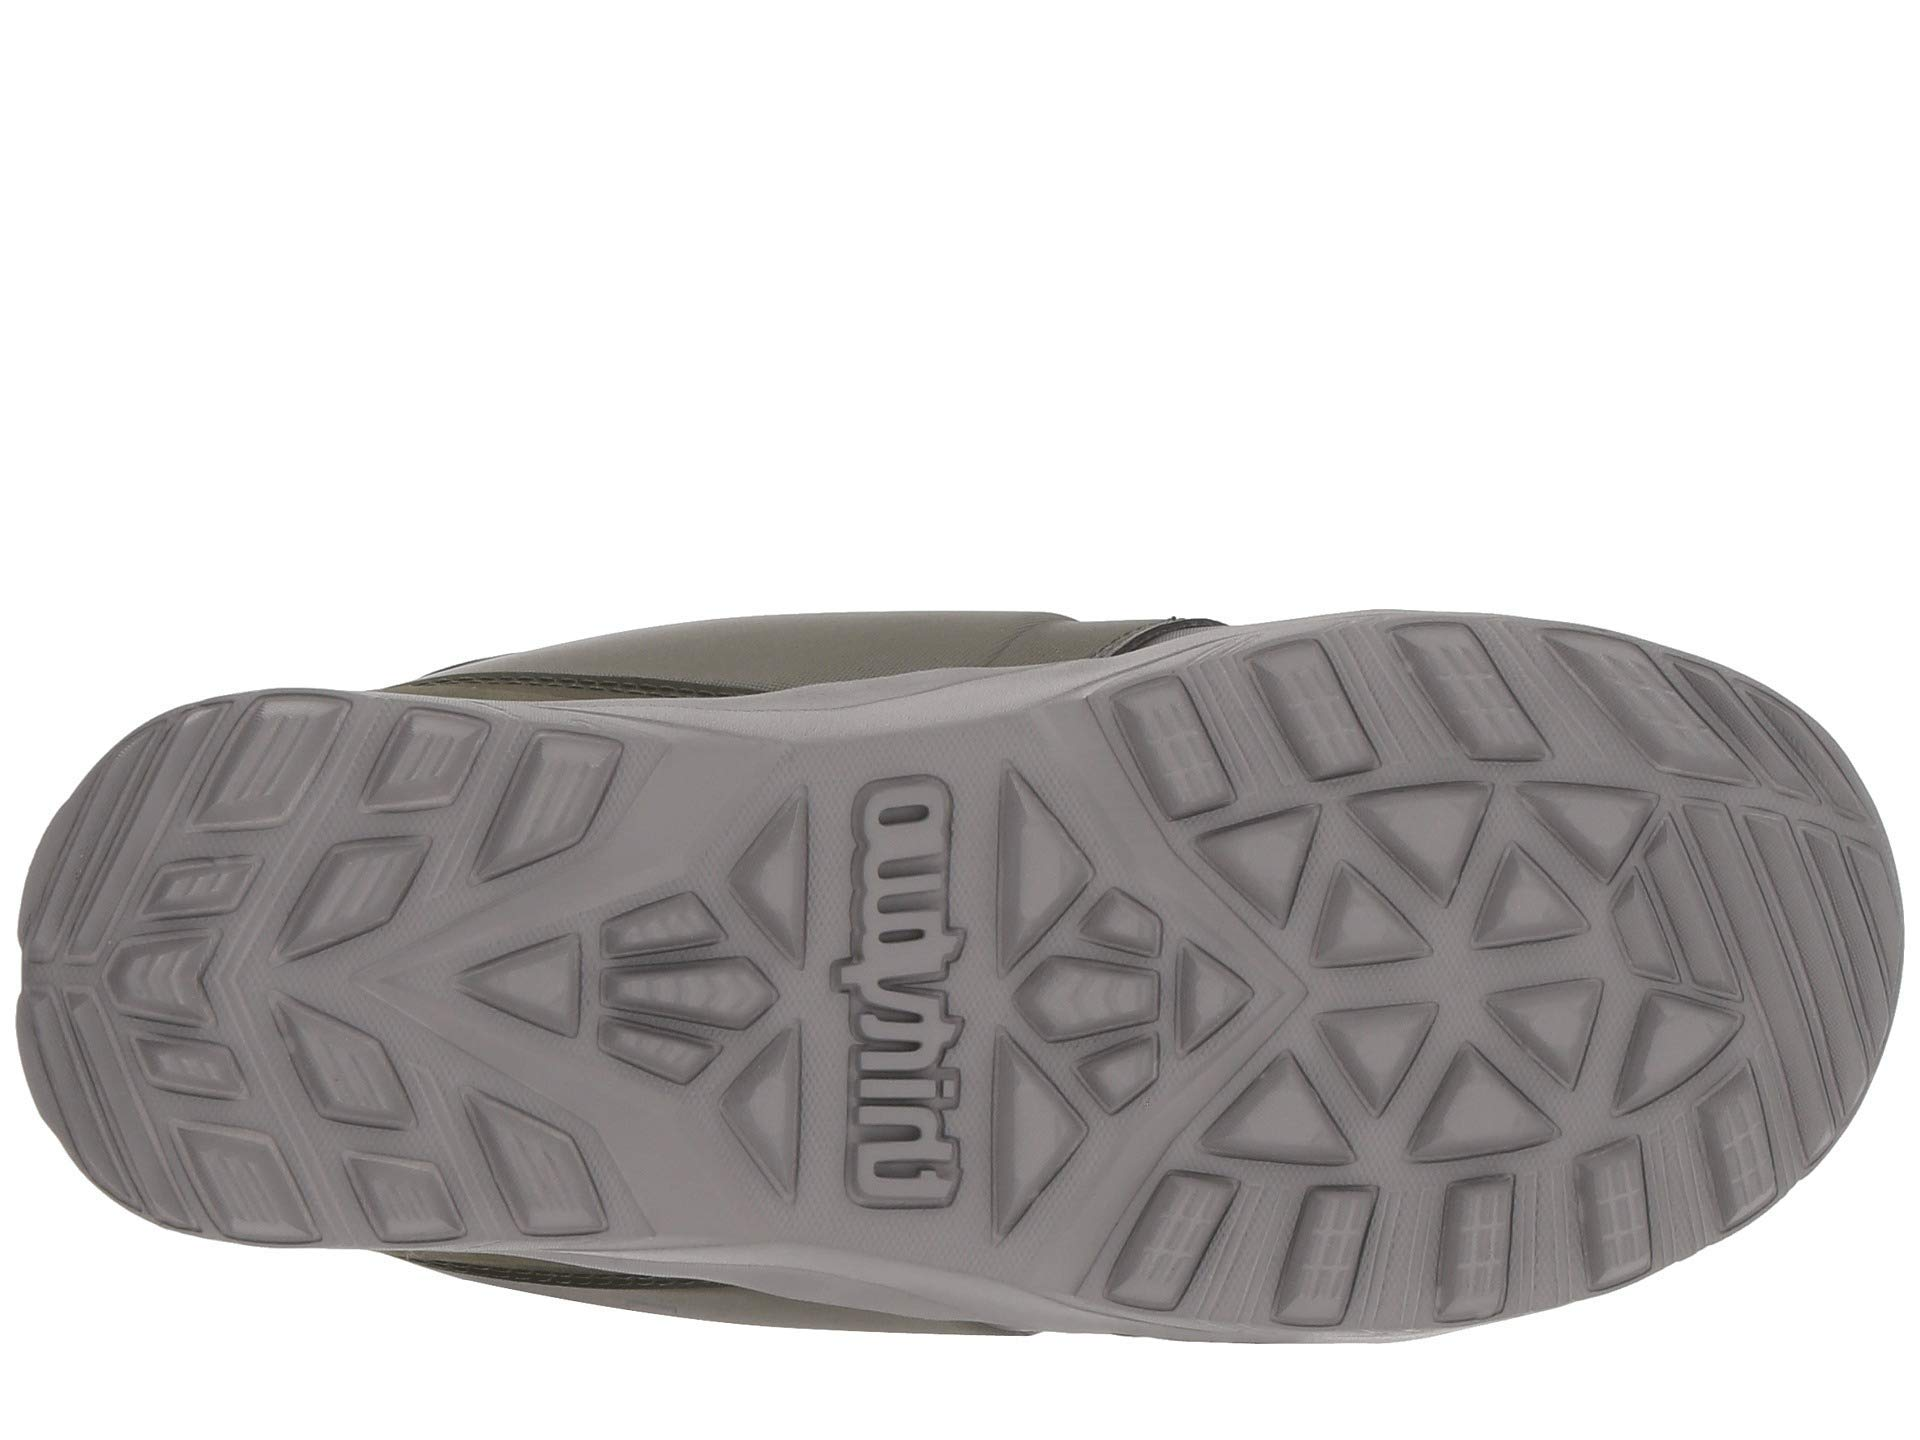polygon: (788, 756, 1176, 1248)
quad: (788, 756, 1176, 1248), (175, 759, 599, 1206)
text: (788, 756, 1176, 1248)
triangle: (1206, 759, 1674, 1175), (788, 756, 1176, 1248), (175, 759, 599, 1206)
